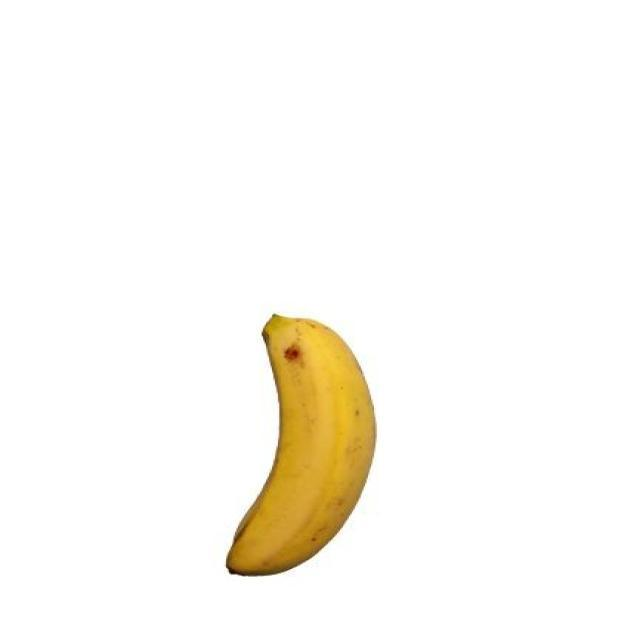banana: (218, 306, 384, 584)
